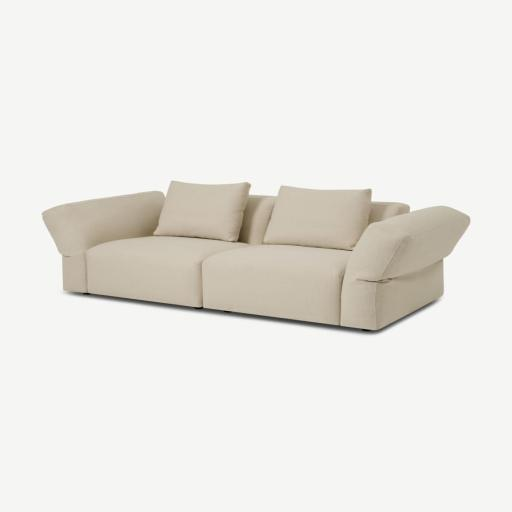back_cushion: (263, 186, 371, 249), (154, 181, 249, 242)
left_arm: (341, 206, 469, 329)
right_arm: (43, 191, 163, 291)
seat_cushion: (86, 236, 348, 324)
two-seater: (0, 0, 511, 512)
